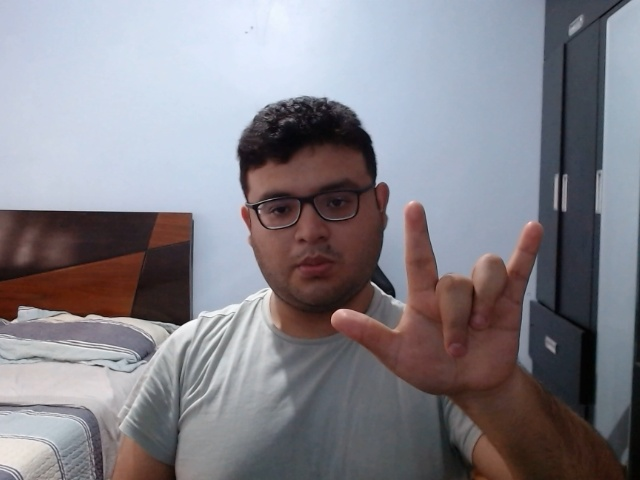I love you: (327, 197, 546, 411)
